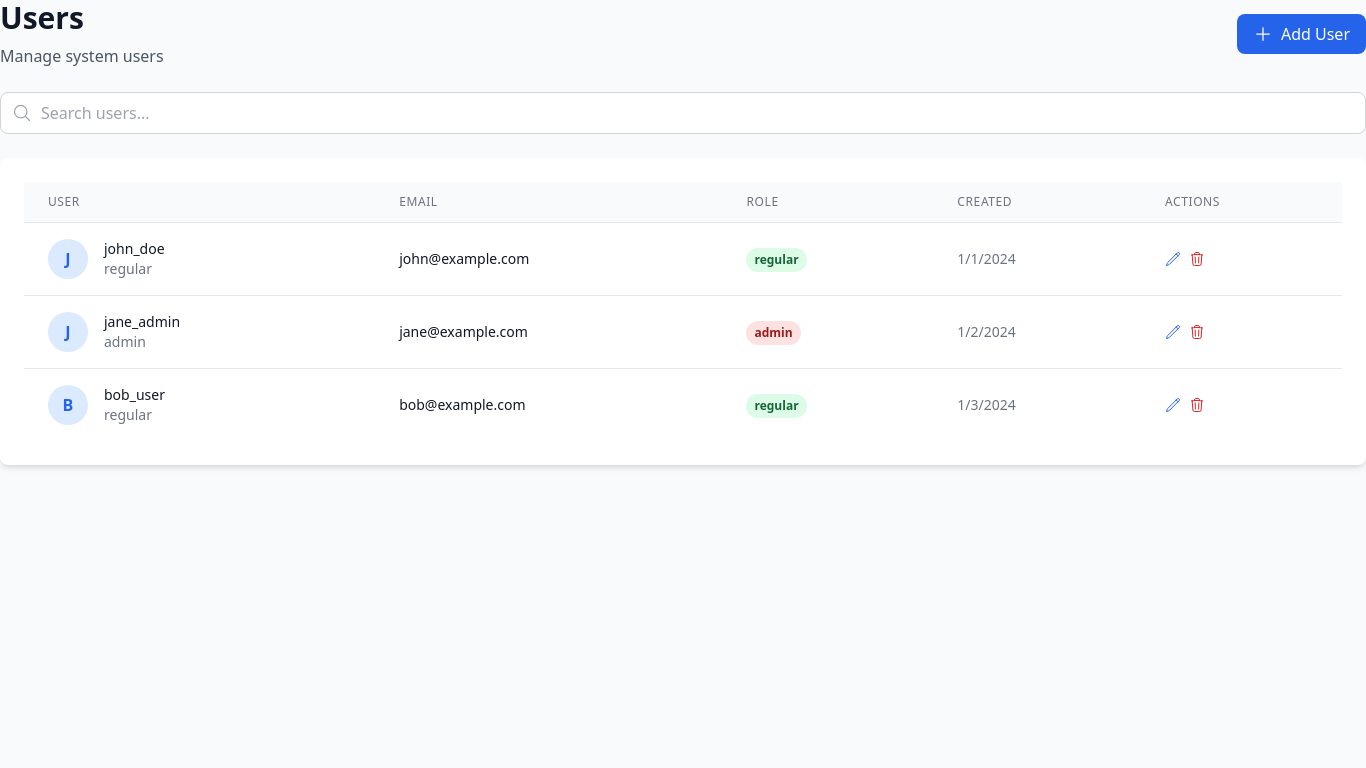
it: Users › CRUD Operations › opens create user modal when Add User button is clicked
Click the button "Add User" at {"x": 1301, "y": 34}, box x1=1237 y1=14 x2=1365 y2=54
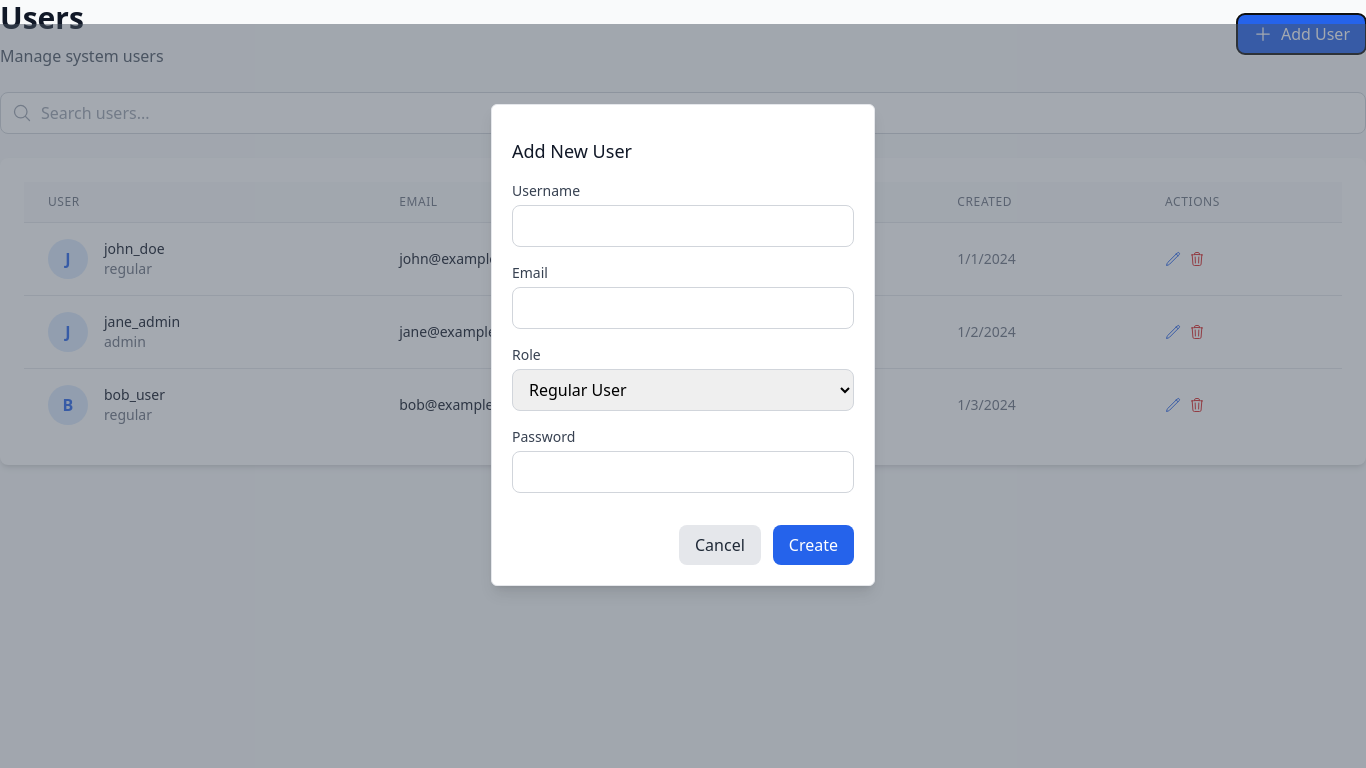
Result: the heading "Add New User" is shown at x1=512 y1=139 x2=632 y2=163
Result: the dropdown is shown at x1=512 y1=369 x2=854 y2=411
